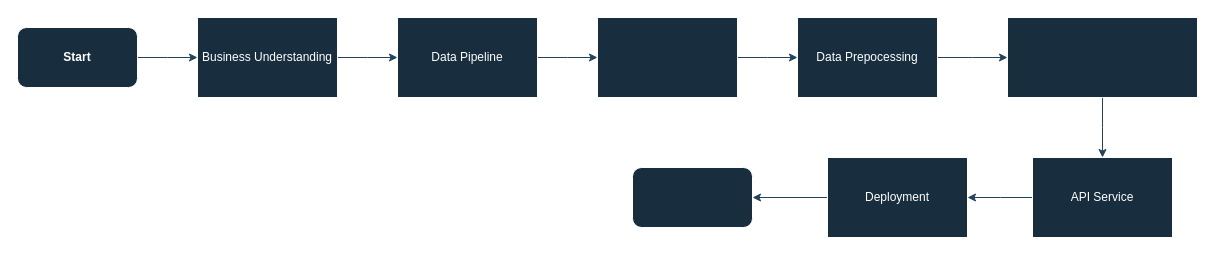
Some shapes in this 1215 by 255 pixel diagram are drawn without their labels. The shapes that lost their labels are listed below. From the top down, each one's centre as x and y in pixels, then its label:
point 667,57: EDA
point 1102,57: Training Model & Evaluation
point 692,197: End
